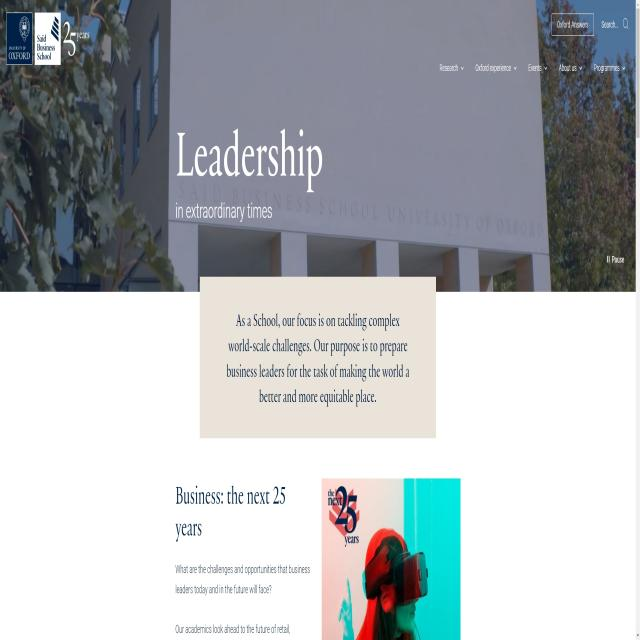menu-bar: (543, 11, 629, 41)
search: (597, 12, 631, 39)
tab-bar: (433, 56, 632, 80)
